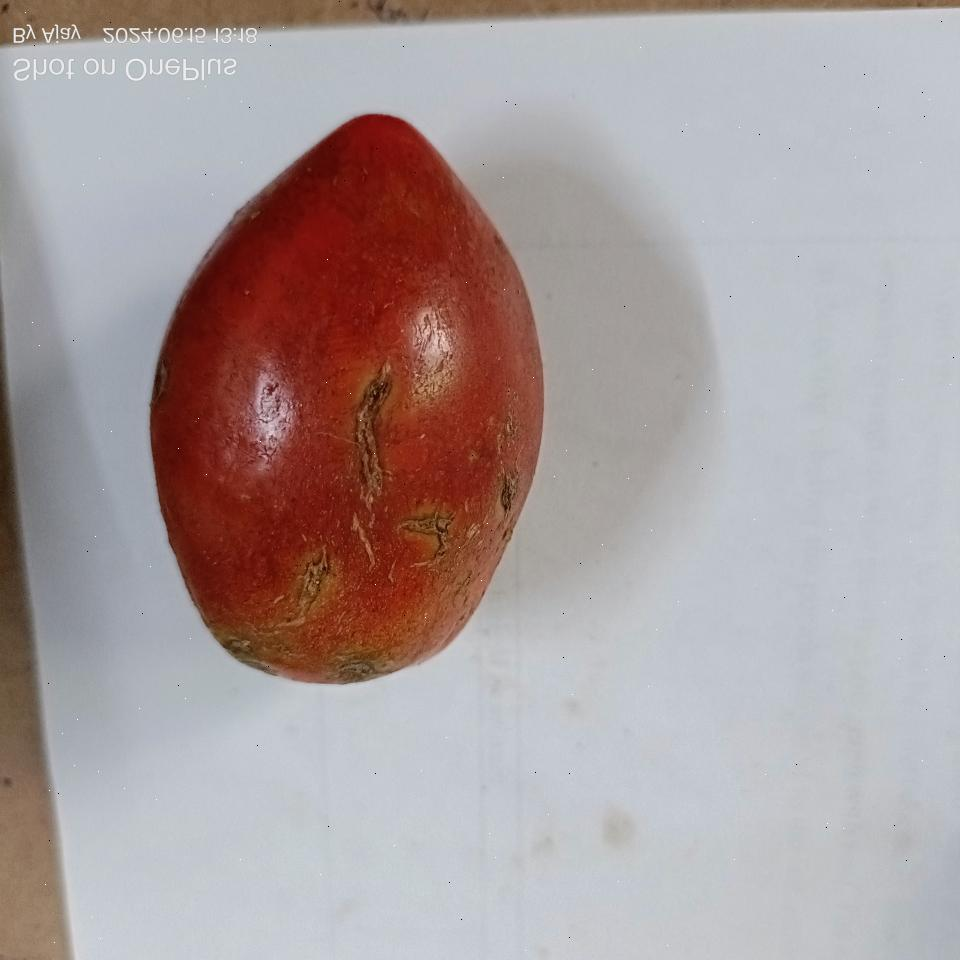Bacterial_Spot: (354, 360, 388, 498), (288, 549, 327, 625), (399, 512, 449, 554), (494, 470, 520, 516)
